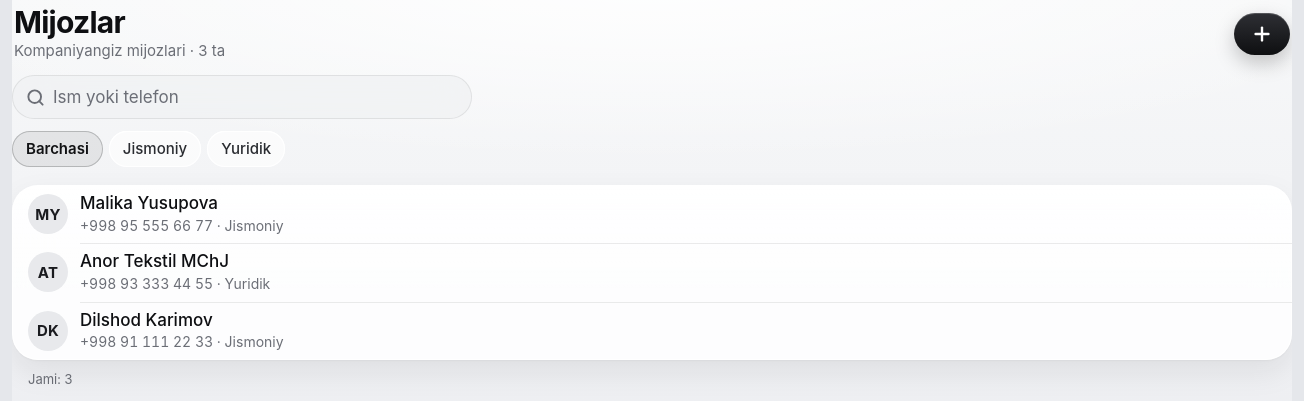
it: a type chip keeps the customers of one type and stays in the address
Expected: the radio button labelled "Barchasi" is checked, [12, 131, 103, 167]
Click the radio button labelled "Yuridik". click: click(246, 149)
box: [207, 131, 285, 167]
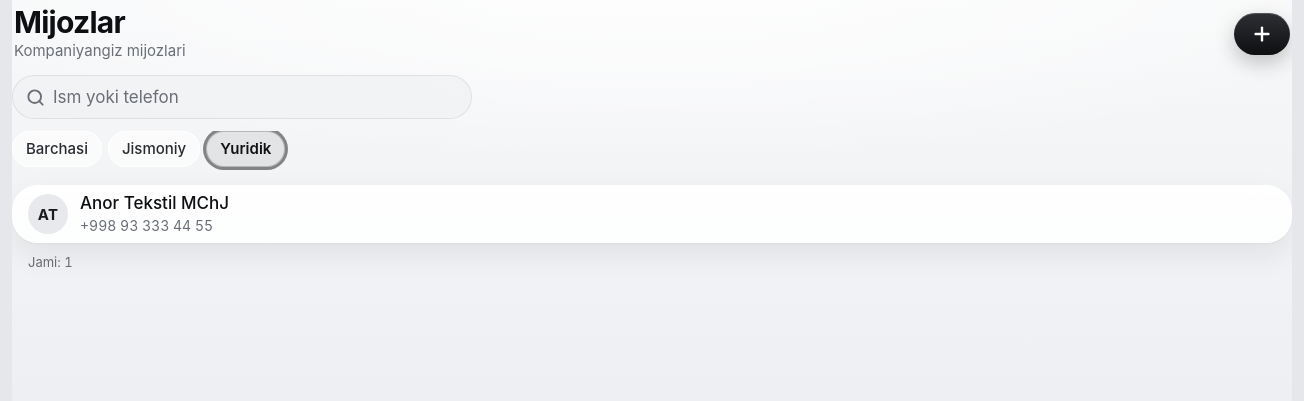
Expected: the text "Kompaniyangiz mijozlari" is shown, [14, 41, 186, 61]
Click the radio button labelled "Jismoniy". click: click(154, 149)
box: [108, 131, 200, 167]
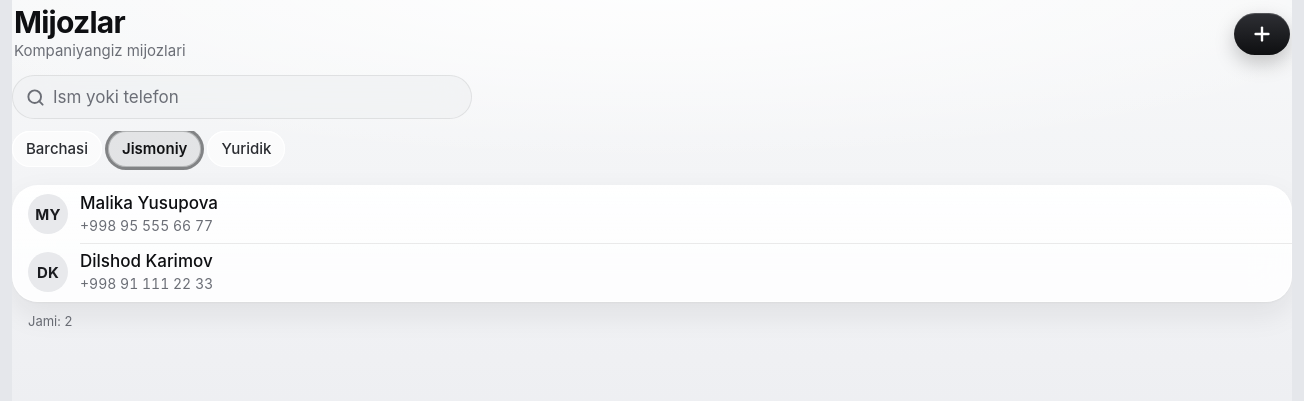
Click the radio button labelled "Barchasi". click: click(57, 149)
box: [12, 131, 102, 167]
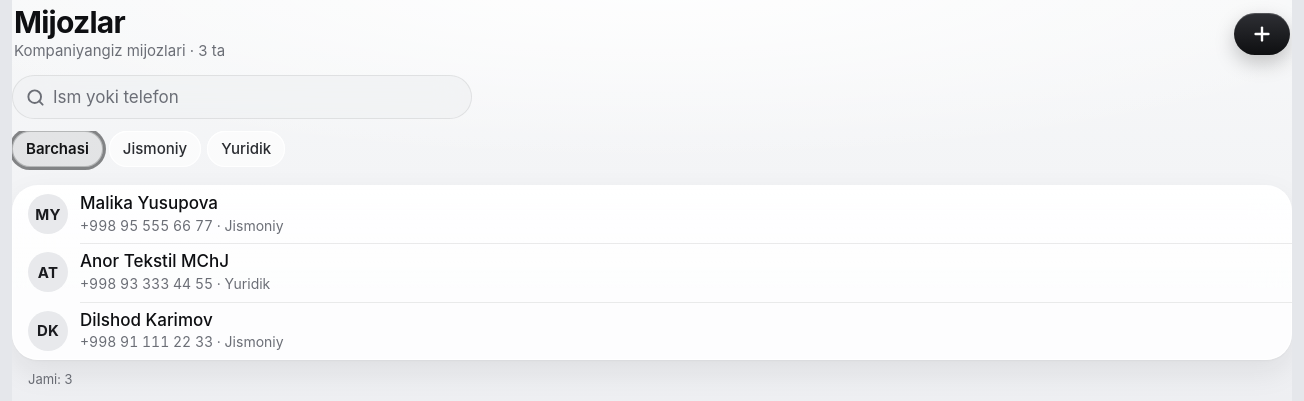
Now the text "Kompaniyangiz mijozlari · 3 ta" is shown, box [14, 41, 225, 61]
